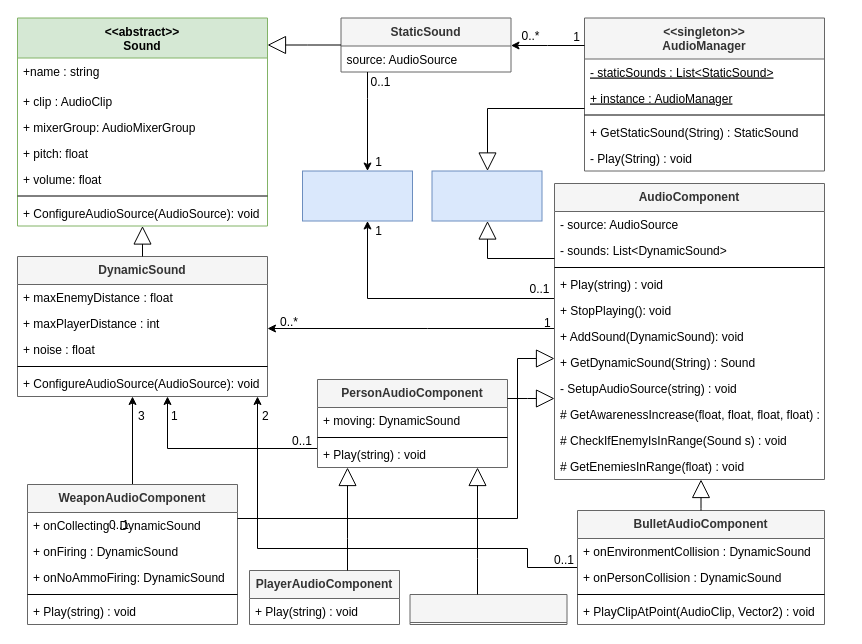
Some shapes in this 862 by 644 pixel diagram are drawn without their labels. Here are the shapes that lost their labels. From the top down, the centre of each, then its label:
At (357,195): "AudioSource".
At (486,195): "MonoBehaviour".
At (488,609): "EnemyAudioComponent".
